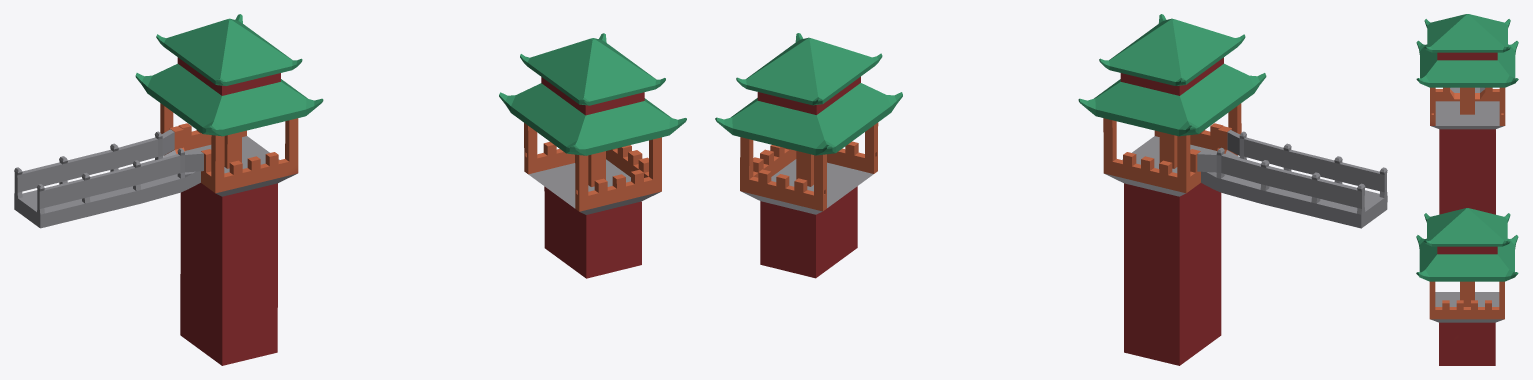
The model's file is CNbridge(color).fbx.
The picture shows the model from 3 angles, left to right: view 1: azimuth 30°, elevation 25°; view 2: azimuth 150°, elevation 25°; view 3: azimuth 270°, elevation 25°; orthographic projection. The views are drawn at different scales.
Visible parts, largest first — view 1: 圓柱體; view 2: 圓柱體; view 3: 圓柱體.
Boxes of the visible parts, box(x1,y1,x2,y2) form: 圓柱體: box(14, 14, 686, 365); 圓柱體: box(715, 14, 1387, 365); 圓柱體: box(1416, 14, 1518, 365).
Bounding box in the file's own units: 4837 × 2412 × 1008.
Materials: 1 (1 with a texture image).
